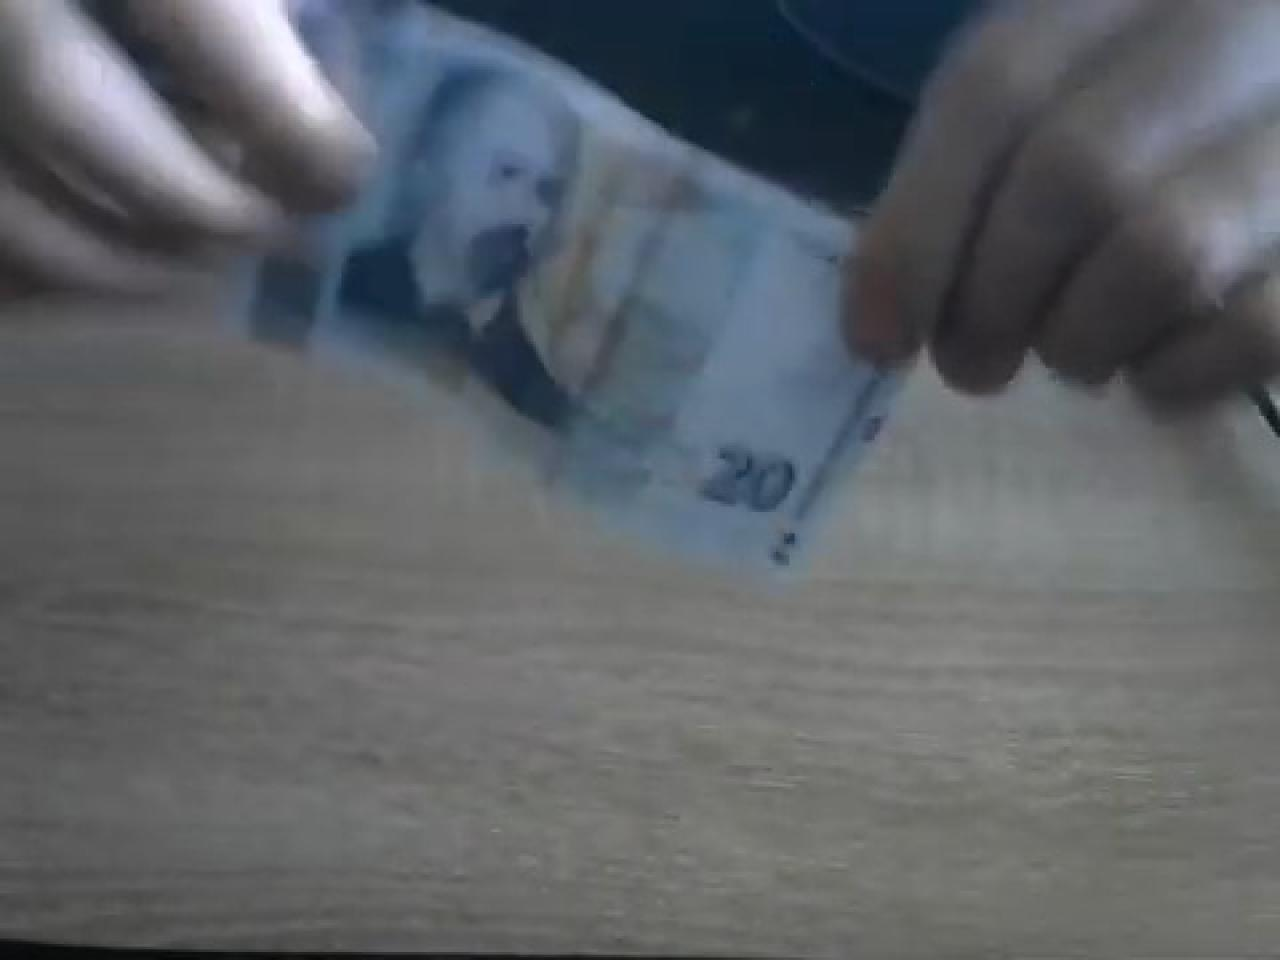20leva: (0, 0, 904, 584)
